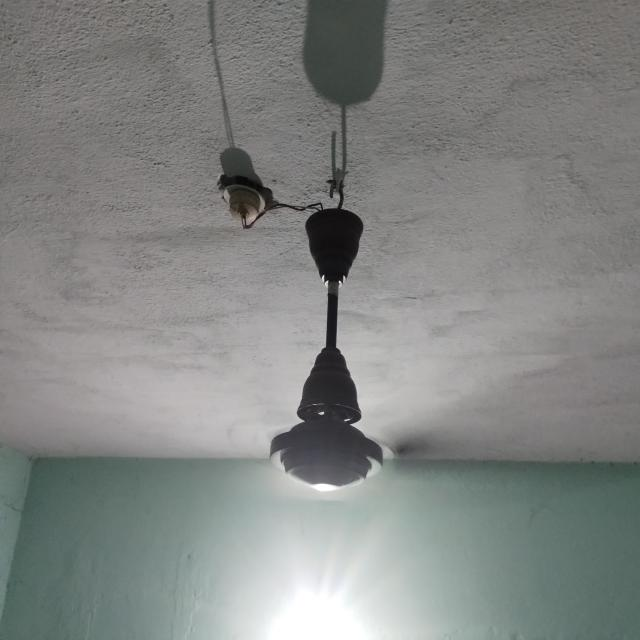fan_on: (214, 212, 432, 495)
